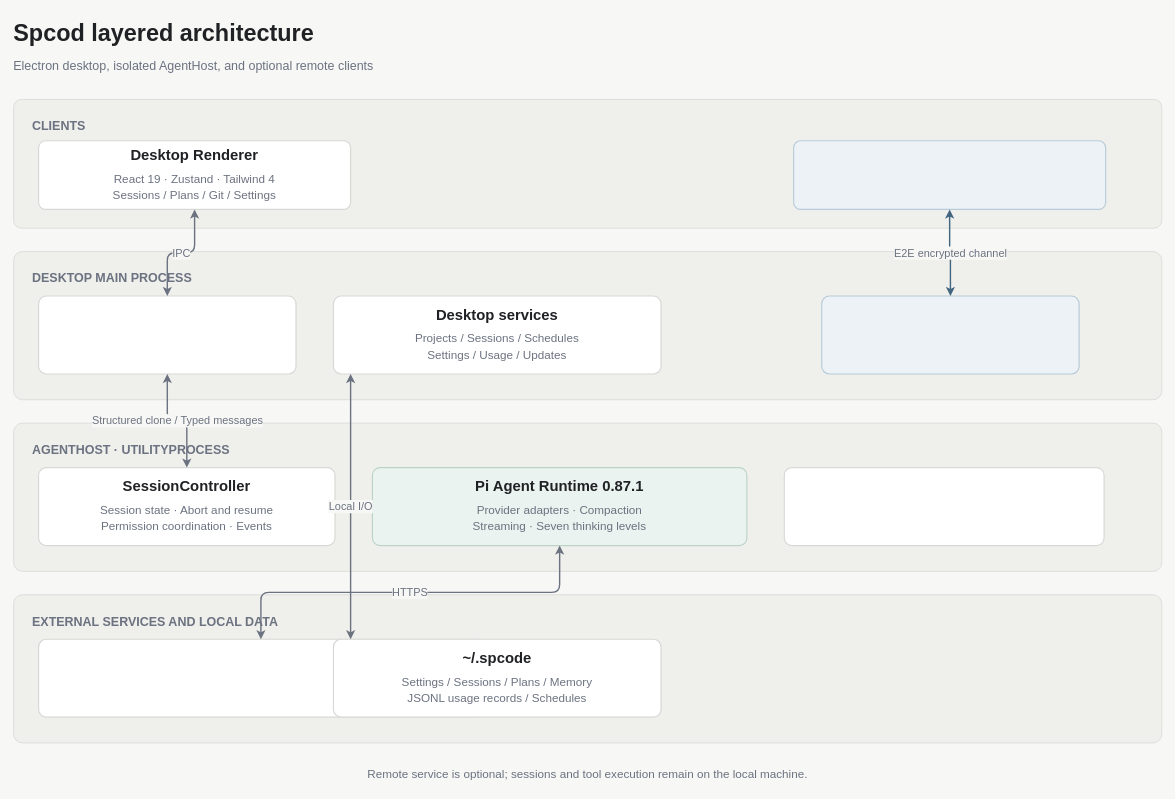
Image size: 1175x799. Some labels were removed from this diagram. Each missing label, with the centre of its shape:
"AgentBridge IPC routing · Typed events utilityProcess lifecycle" belongs at pixel 167 334.
"Mobile PWA Paired devices · Session control · Approvals" belongs at pixel 949 175.
"Model APIs OpenAI / Anthropic / Gemini Custom OpenAI-compatible endpoints" belongs at pixel 260 677.
"Remote service LAN · Relay · Tailscale Pairing / E2E / Web Push" belongs at pixel 950 334.
"Tools and extensions Files / Bash / Web / Todo / Task MCP · Memory · Sandbox" belongs at pixel 943 506.
